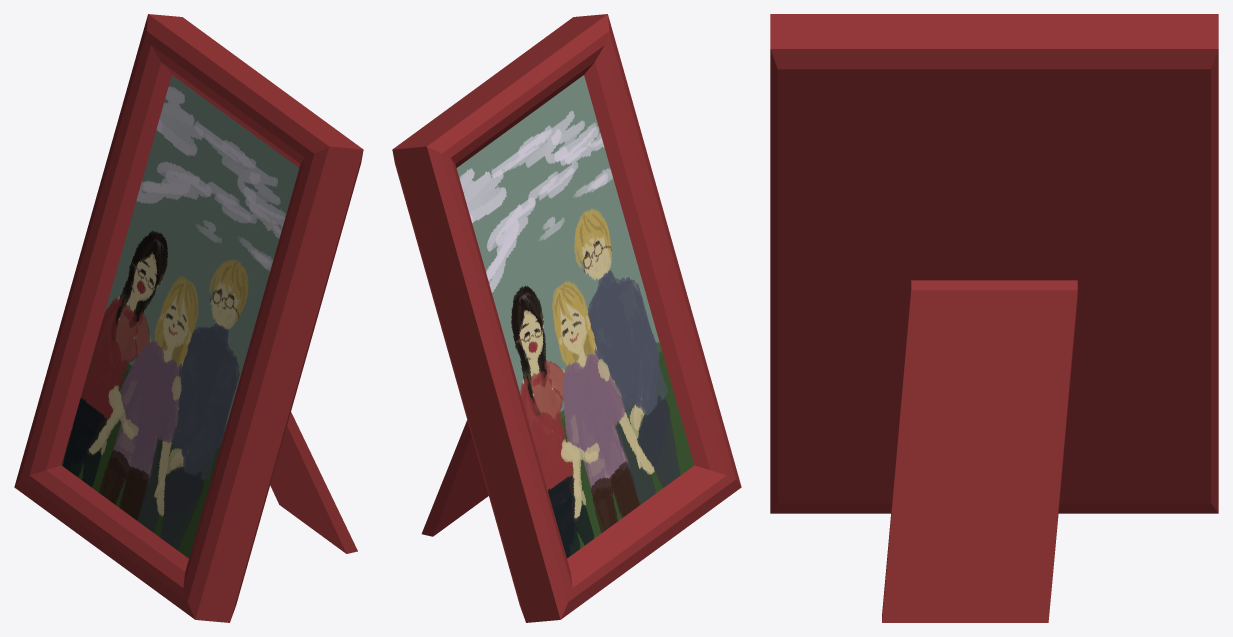
The model's file is M_Frame01.fbx.
3 renders of one model, left to right at view 1: azimuth 30°, elevation 25°; view 2: azimuth 150°, elevation 25°; view 3: azimuth 270°, elevation 25°, orthographic. The views are drawn at different scales.
Parts seen in each view (by area): view 1: Cube.003; view 2: Cube.003; view 3: Cube.003.
Part boxes in pixels (bbox=[...]): Cube.003: bbox=[14, 14, 363, 622]; Cube.003: bbox=[392, 14, 741, 622]; Cube.003: bbox=[770, 14, 1218, 622].
Size of the model in its own units: 15.37 by 32.05 by 23.07.
1 material, 1 textured.
